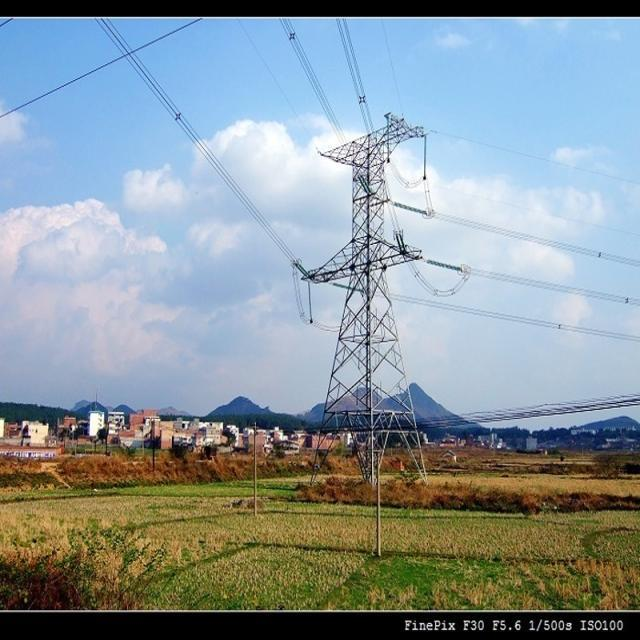non-critical vegetation: (314, 130, 437, 480)
